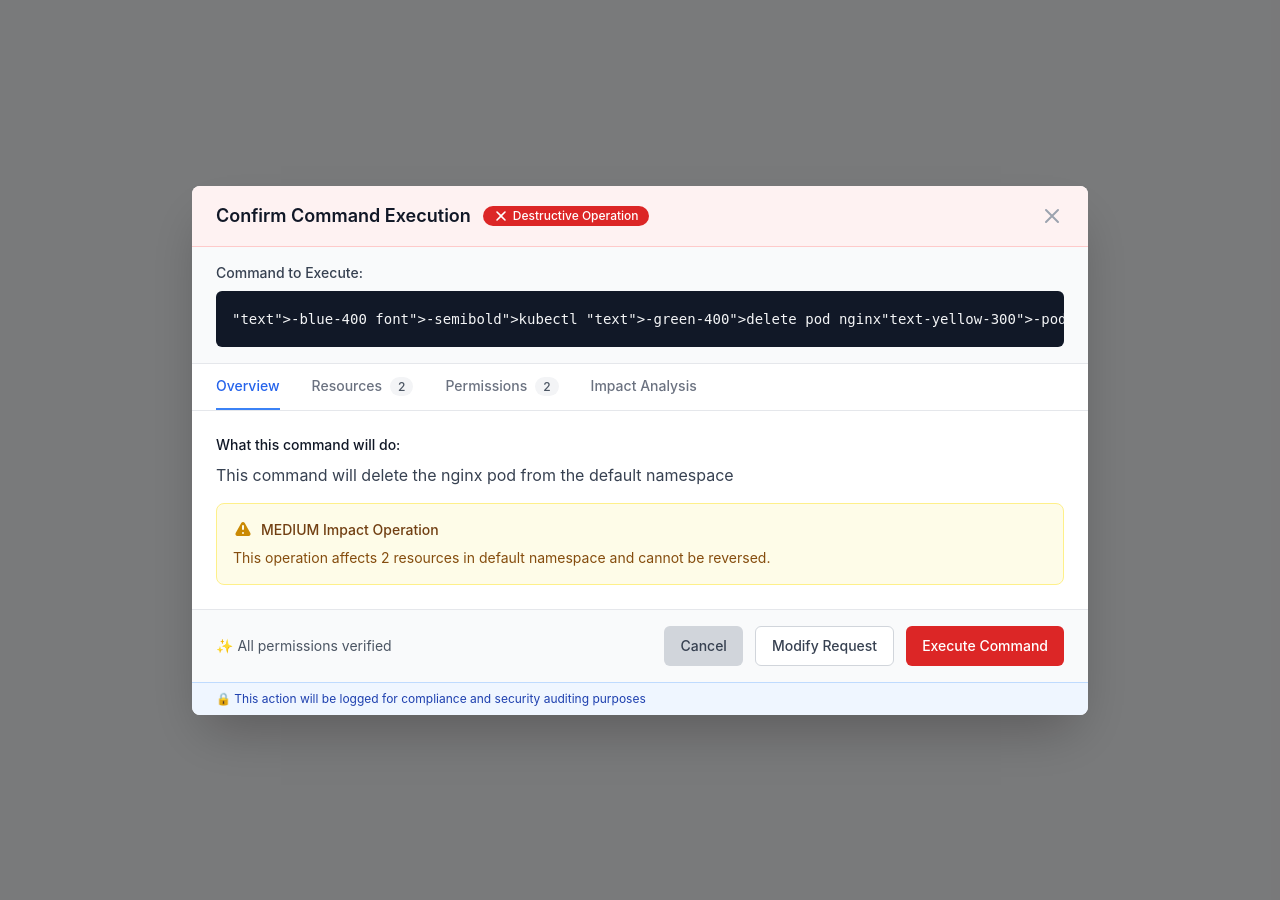
EnhancedCommandConfirmationDialog › Tab Navigation › switches to resources tab
Click the button "Resources2": (362, 386) [312, 364, 413, 410]
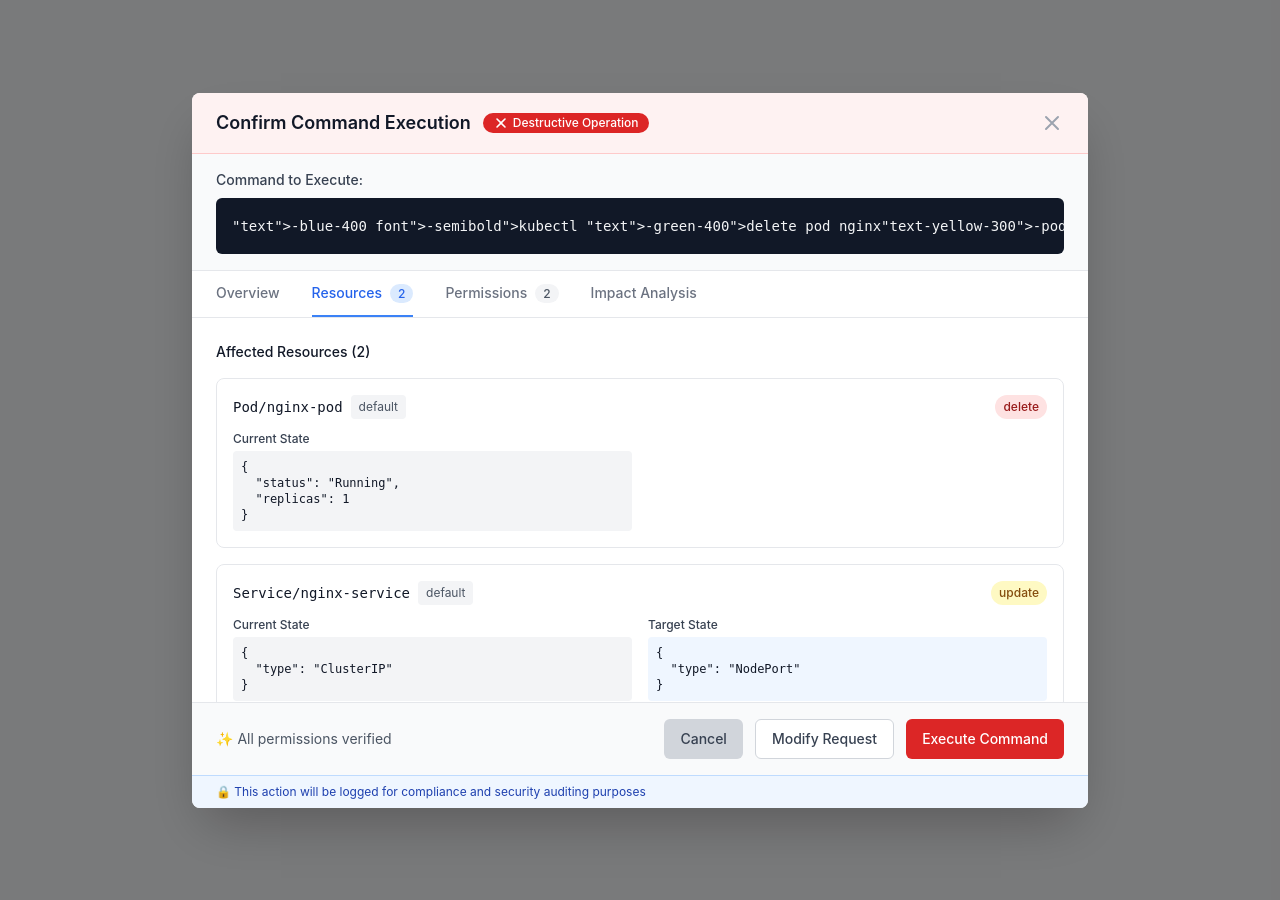
expect the heading "Affected Resources (2)" is shown: met, box [216, 342, 370, 360]
expect the text "Pod/nginx-pod" is shown: met, box [233, 396, 343, 416]
expect the text "Service/nginx-service" is shown: met, box [233, 582, 410, 602]
